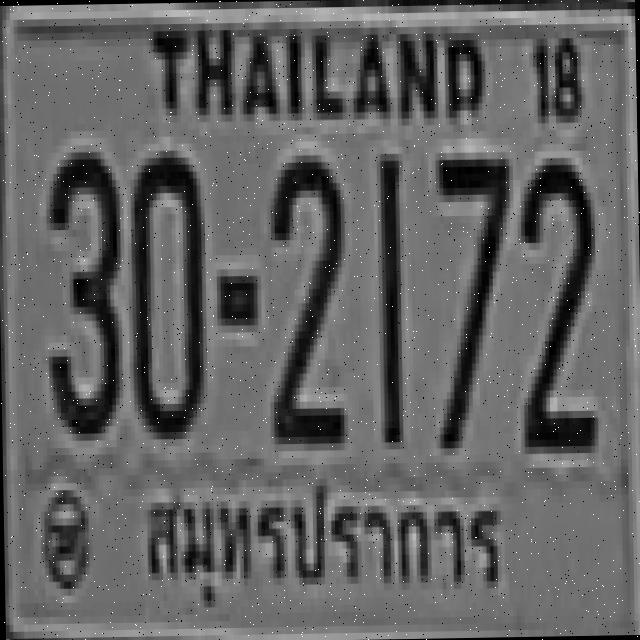0: (126, 142, 204, 432)
1: (372, 150, 403, 439)
2: (516, 150, 594, 447), (266, 148, 344, 438)
3: (41, 140, 120, 430)
7: (431, 144, 510, 442)
SamutPrakan: (134, 452, 516, 628)
